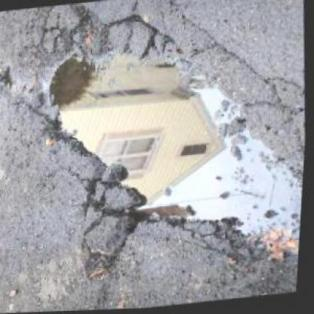Hueco: (17, 0, 313, 286)
